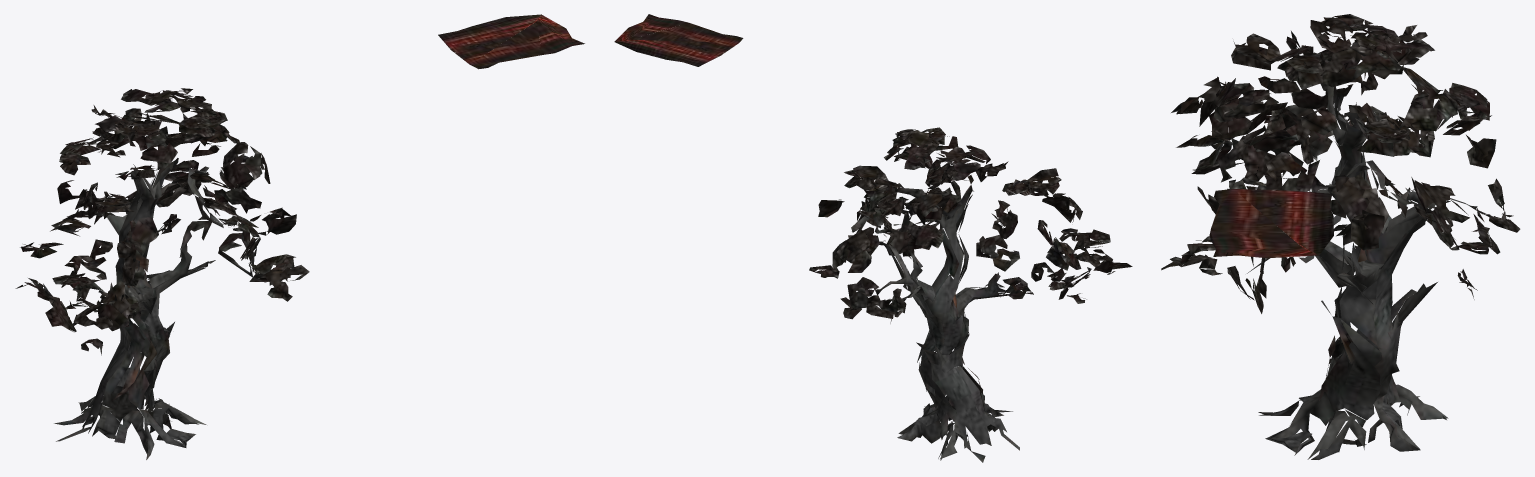
File: arvore_brasa_broto.glb
3 renders of one model, left to right at view 1: azimuth 30°, elevation 25°; view 2: azimuth 150°, elevation 25°; view 3: azimuth 270°, elevation 25°, orthographic. The views are drawn at different scales.
Visible parts, largest first — view 1: geometry_0.001; view 2: geometry_0.001; view 3: geometry_0.001.
Part boxes in pixels (x1,y1,x2,y2): geometry_0.001: (15,14,584,459); geometry_0.001: (614,14,1132,462); geometry_0.001: (1161,14,1520,459).
Bounding box in the file's own units: 0.983 × 0.5767 × 0.4434.
1 material, 1 textured.
